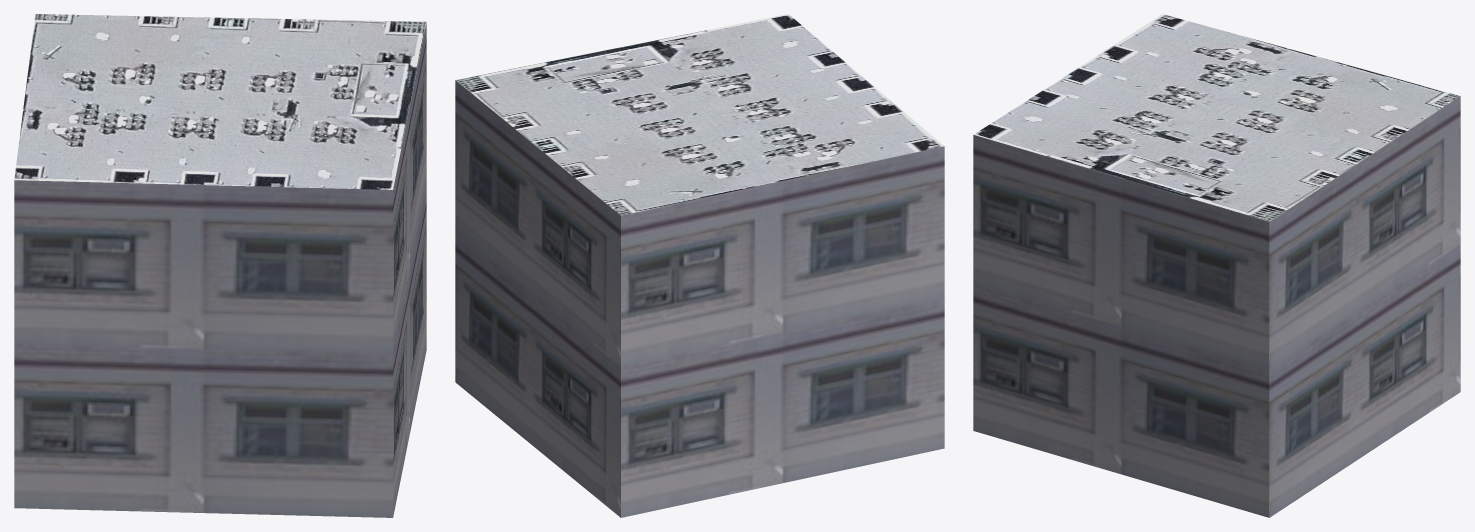
Rendered from ResTex__4398.fbx.
The picture shows the model from 3 angles, left to right: view 1: azimuth 30°, elevation 25°; view 2: azimuth 150°, elevation 25°; view 3: azimuth 270°, elevation 25°; orthographic projection. The views are drawn at different scales.
Visible parts, largest first — view 1: CityEngineMaterial_1_m, CityEngineMaterial_2_m; view 2: CityEngineMaterial_1_m, CityEngineMaterial_2_m; view 3: CityEngineMaterial_1_m, CityEngineMaterial_2_m.
Boxes of the visible parts, x1,y1,x2,y2 form: CityEngineMaterial_1_m: [14, 23, 426, 517]; CityEngineMaterial_2_m: [14, 14, 426, 189]; CityEngineMaterial_1_m: [455, 80, 944, 517]; CityEngineMaterial_2_m: [455, 14, 943, 215]; CityEngineMaterial_1_m: [973, 96, 1460, 517]; CityEngineMaterial_2_m: [974, 14, 1459, 221].
Size of the model in its own units: 9.03 by 6 by 8.94.
2 materials, 2 textured.
